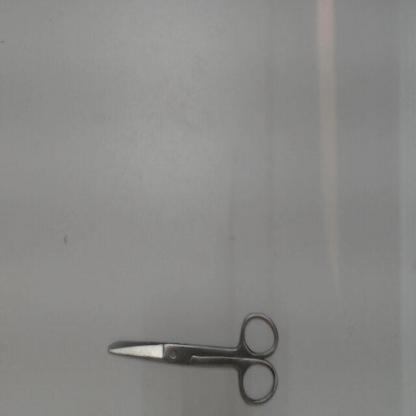Dressing Scissors: (98, 303, 285, 411)
